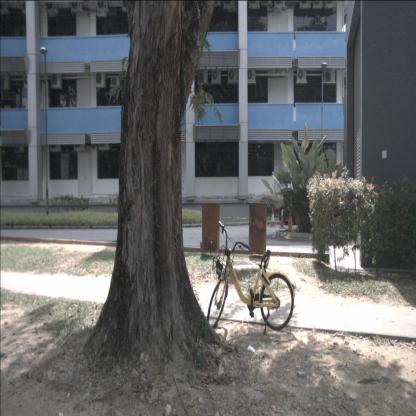movable_object-trafficcone: (278, 208, 286, 229), (269, 208, 277, 228), (286, 211, 294, 230)
vehicle-bicycle: (204, 219, 296, 333)
